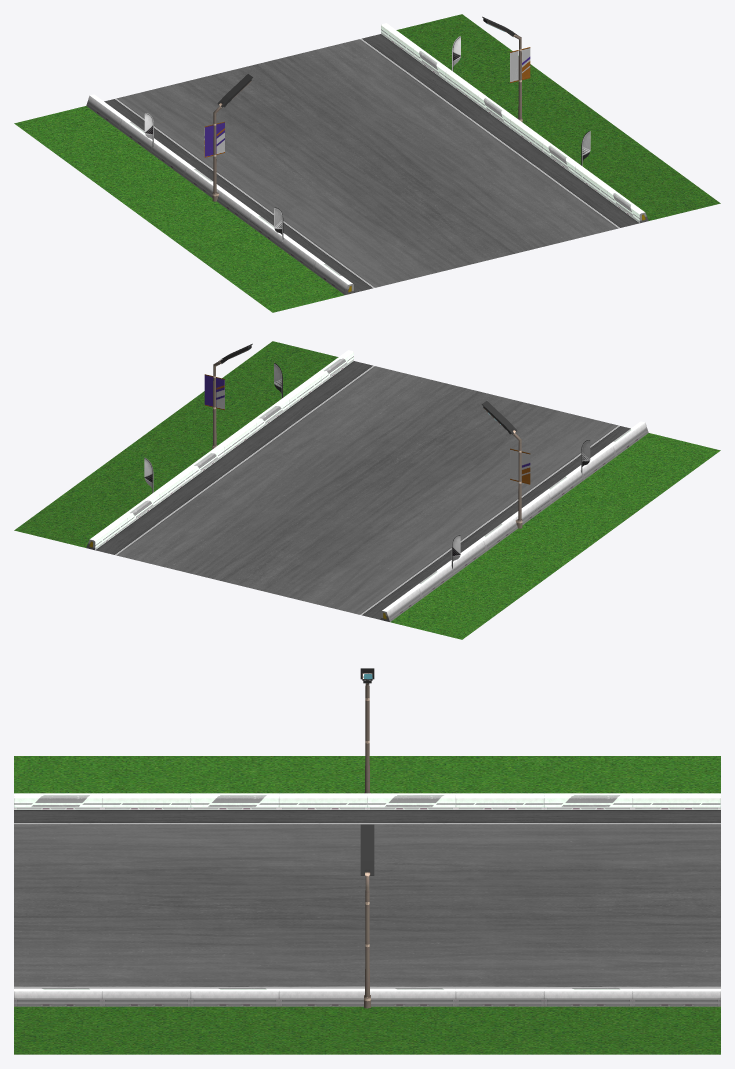
Rendered from T1 - Ground.fbx.
3 renders of one model, top to bottom at view 1: azimuth 30°, elevation 25°; view 2: azimuth 150°, elevation 25°; view 3: azimuth 270°, elevation 25°, orthographic. The views are drawn at different scales.
Visible parts, largest first — view 1: standard_road, standard_ground_grass, wall_straight_ground, pro_streetlight_banners__3_, pro_streetlight_banners__2_, prop_sta_street_flags; view 2: standard_road, standard_ground_grass, wall_straight_ground, pro_streetlight_banners__3_, pro_streetlight_banners__2_, prop_sta_street_flags; view 3: standard_road, standard_ground_grass, wall_straight_ground, pro_streetlight_banners__2_, pro_streetlight_banners__3_.
Part boxes in pixels (x1,y1,x2,y2): standard_road: (104, 34, 639, 292); standard_ground_grass: (14, 14, 720, 312); wall_straight_ground: (86, 23, 648, 294); pro_streetlight_banners__3_: (204, 74, 252, 201); pro_streetlight_banners__2_: (482, 16, 530, 122); prop_sta_street_flags: (144, 36, 590, 241); standard_road: (95, 361, 630, 619); standard_ground_grass: (14, 341, 720, 639); wall_straight_ground: (86, 350, 648, 621); pro_streetlight_banners__3_: (482, 401, 530, 528); pro_streetlight_banners__2_: (204, 343, 252, 449); prop_sta_street_flags: (144, 363, 590, 568); standard_road: (14, 810, 720, 988); standard_ground_grass: (14, 756, 720, 1054); wall_straight_ground: (14, 793, 720, 1006); pro_streetlight_banners__2_: (360, 824, 374, 1008); pro_streetlight_banners__3_: (360, 668, 374, 793).
Size of the model in its own units: 6400 by 1591 by 6400.
